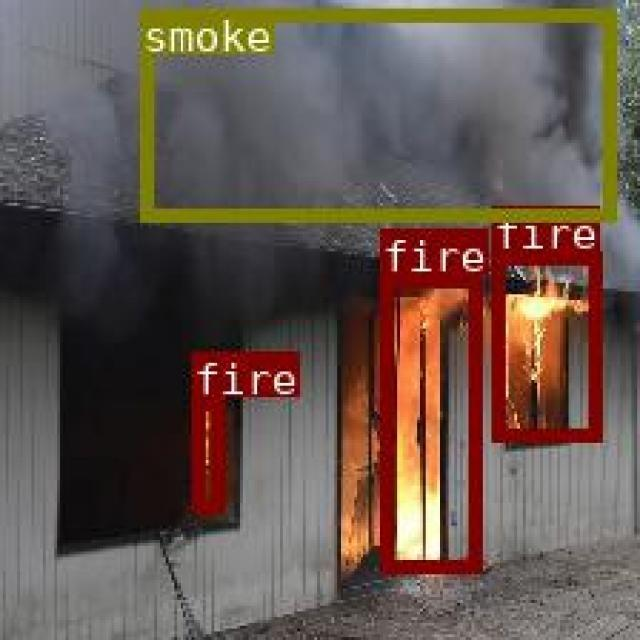fire: (379, 273, 478, 570), (490, 251, 598, 439), (189, 395, 222, 511)
smoke: (139, 6, 614, 219)
